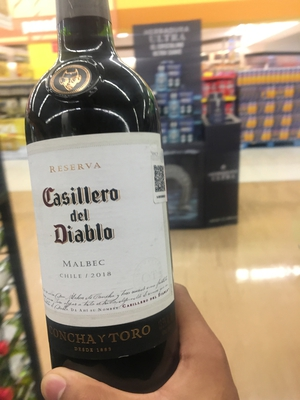casillero del diablo malbec: (18, 5, 189, 386)
